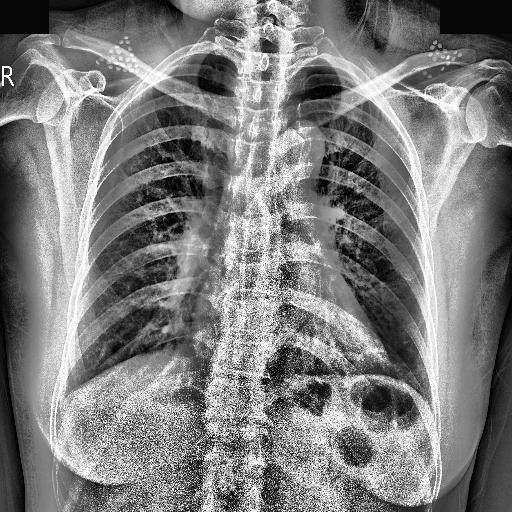0- Aortic enlargement: (274, 120, 324, 203), (272, 116, 328, 178), (270, 118, 326, 180)
3- Cardiomegaly: (175, 306, 401, 388), (192, 288, 392, 378), (191, 304, 388, 382)
